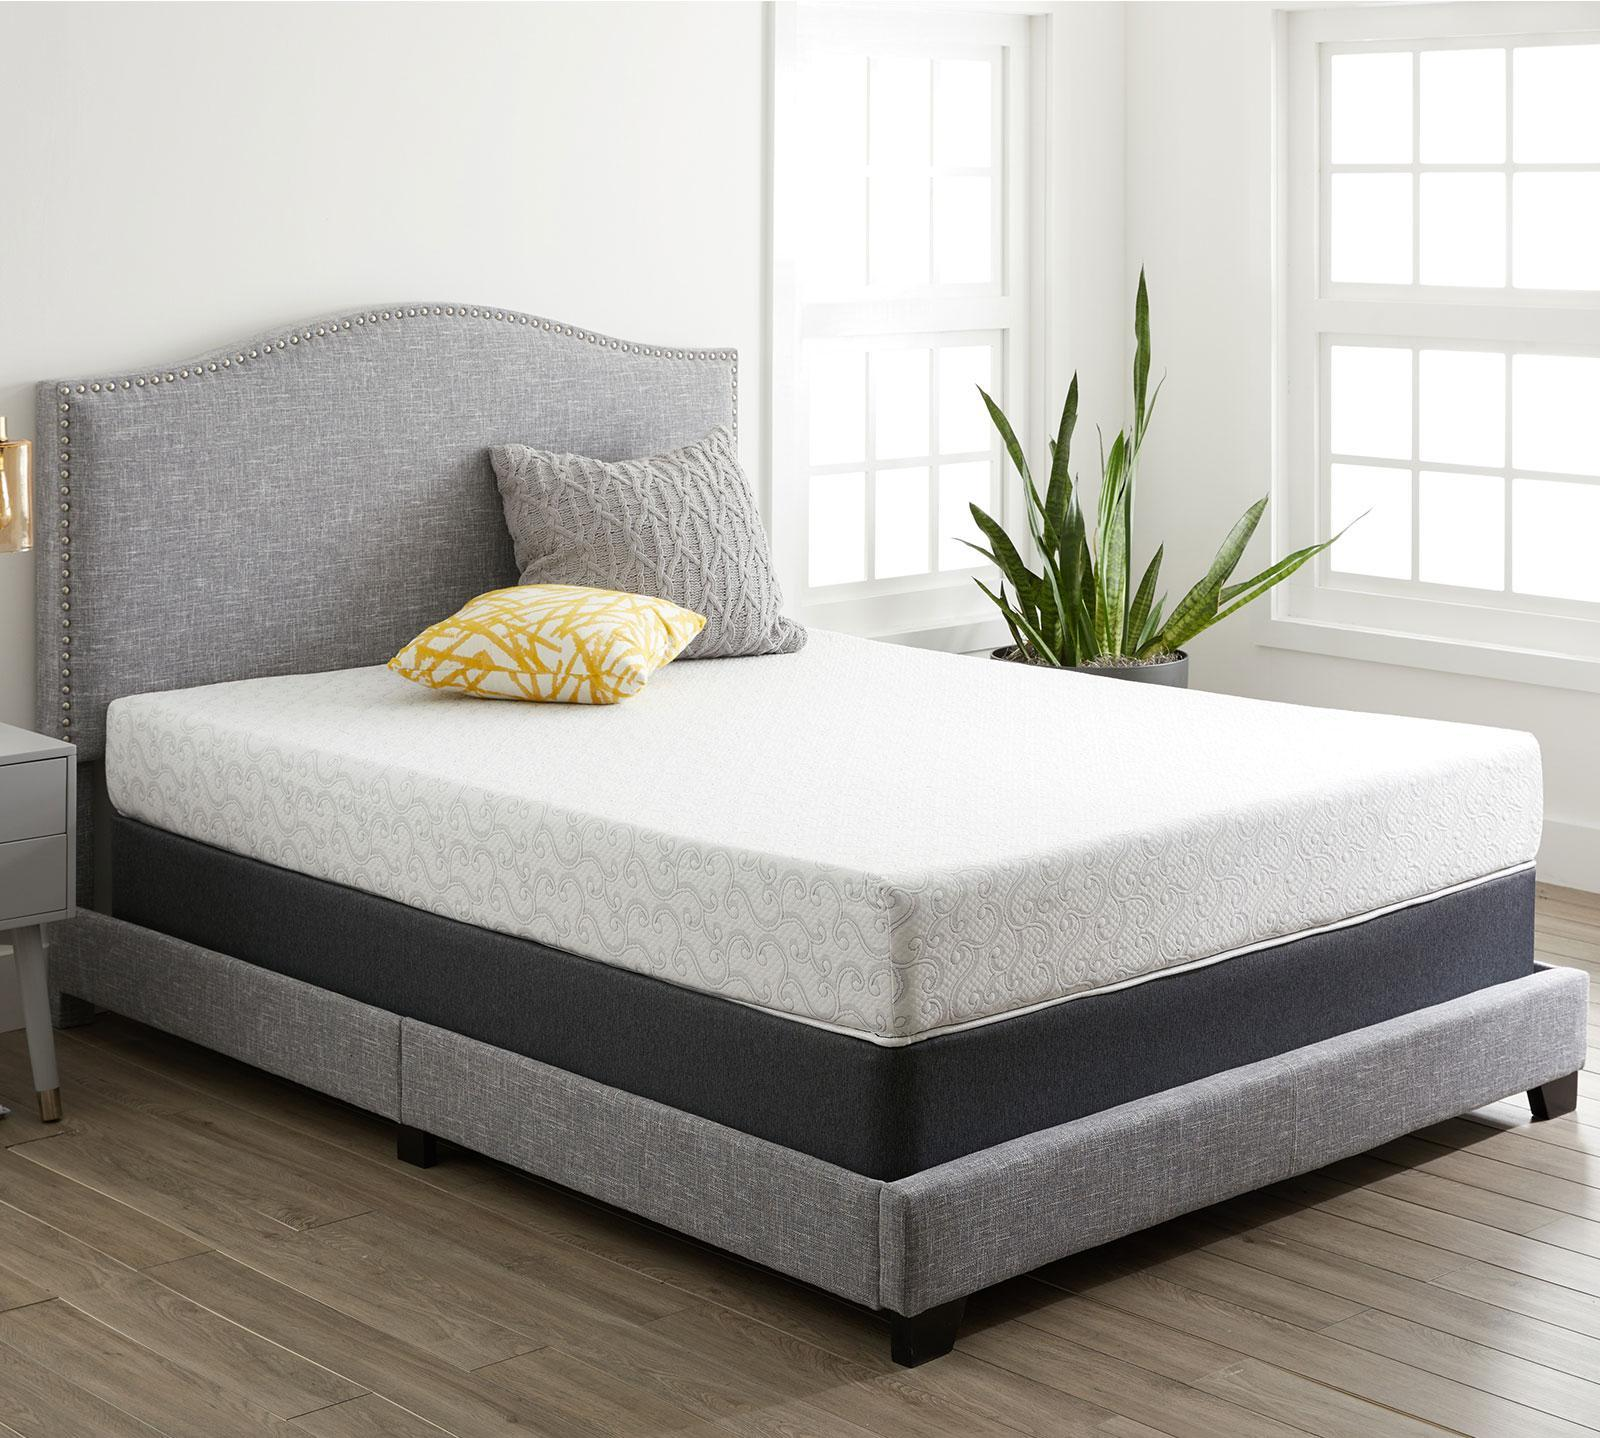bed: (147, 310, 1150, 1054)
